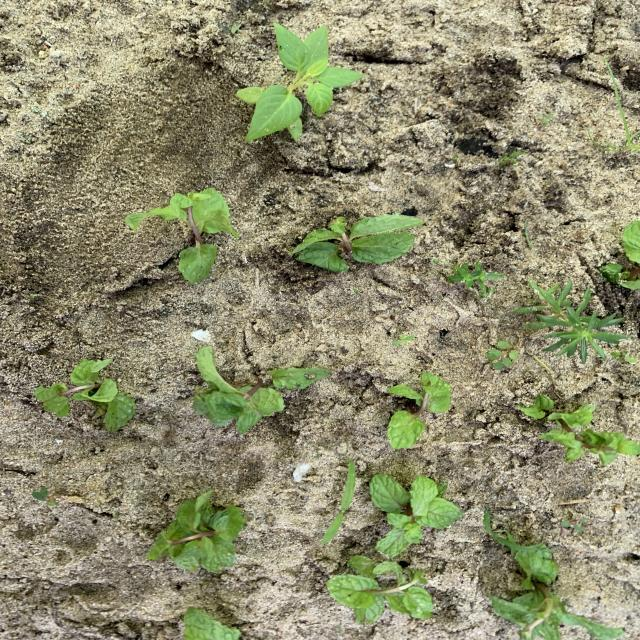crop: (491, 550, 623, 640), (193, 346, 327, 433), (125, 189, 239, 282), (518, 394, 639, 464), (146, 491, 245, 571), (370, 474, 462, 556), (291, 214, 422, 271), (327, 556, 433, 624), (34, 359, 135, 429), (388, 373, 451, 447), (601, 221, 639, 288), (184, 608, 240, 639)
weed: (236, 23, 364, 142), (515, 281, 629, 363), (483, 509, 546, 555), (321, 460, 355, 543), (606, 56, 632, 153), (448, 262, 505, 298), (487, 341, 519, 368), (32, 487, 59, 506), (498, 150, 524, 166), (562, 519, 586, 532), (612, 351, 635, 363), (393, 333, 415, 344), (537, 114, 553, 125), (231, 23, 240, 33)
